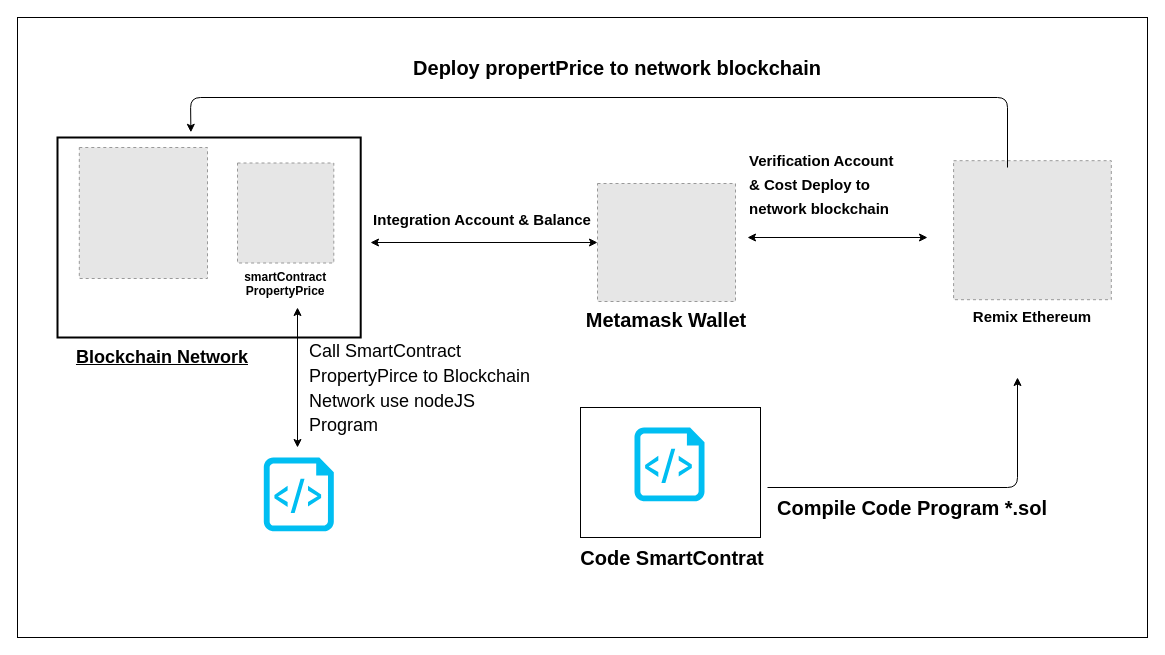
Some shapes in this 1165 by 655 pixel diagram are drawn without their labels. Grey dashed boxes stand in for pictures. Here are the shapes that lost their labels. From the top down, the box of each, then its label:
(634, 427, 704, 501): propertyPrice.sol
(263, 457, 333, 531): contact.js
